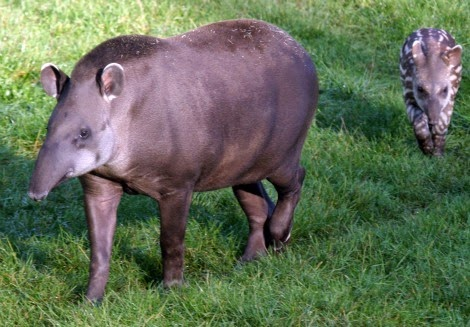Anta: (21, 14, 321, 306), (393, 22, 464, 162)
